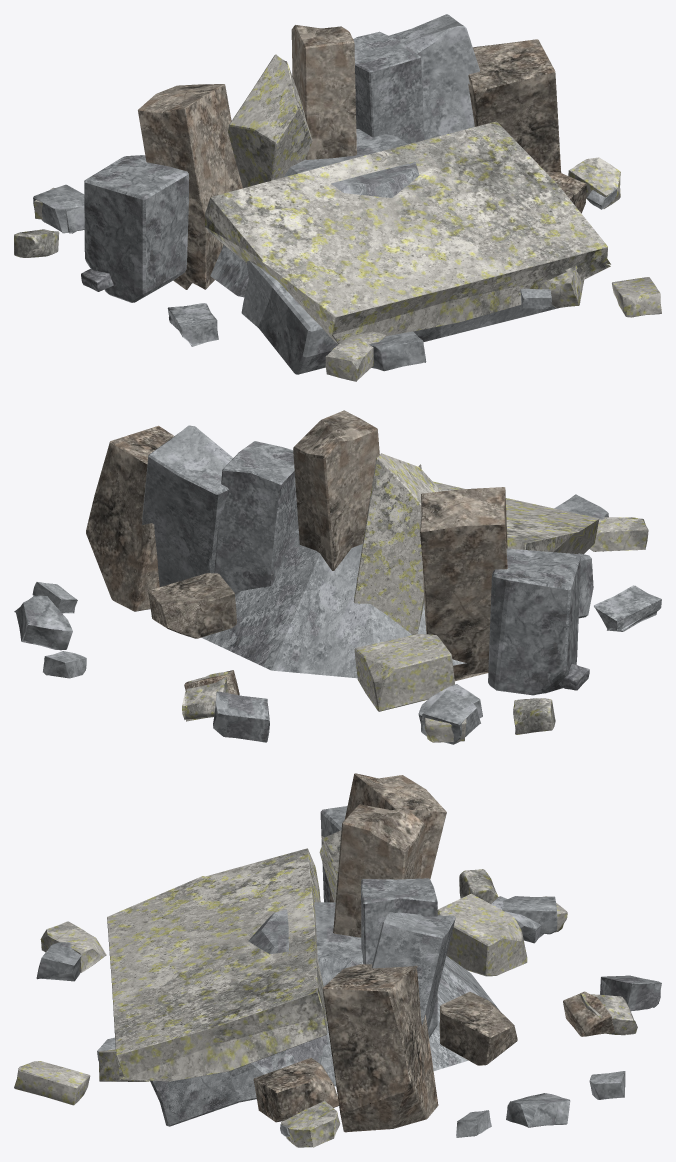
The model's file is cima-vallibierna.glb.
3 renders of one model, top to bottom at view 1: azimuth 30°, elevation 25°; view 2: azimuth 150°, elevation 25°; view 3: azimuth 270°, elevation 25°, orthographic. The views are drawn at different scales.
Visible parts, largest first — view 1: hito_granito_liquen, hito_granito_gris, hito_roca_beis, bloque3, bloque13, bloque18, bloque4, bloque0, bloque12, bloque15, bloque8, bloque16 (+1 smaller); view 2: hito_granito_gris, hito_roca_beis, hito_granito_liquen, bloque17, bloque14, bloque4, bloque3, bloque12, bloque15, bloque9, bloque1, bloque19 (+5 smaller); view 3: hito_granito_liquen, hito_roca_beis, hito_granito_gris, bloque18, bloque0, bloque14, bloque17, bloque3, bloque6, bloque12, bloque13, bloque9 (+5 smaller).
Boxes of the visible parts, left/top/right/bottom form: hito_granito_liquen: left=204, top=54, right=610, bottom=344; hito_granito_gris: left=84, top=14, right=558, bottom=374; hito_roca_beis: left=138, top=25, right=586, bottom=289; bloque3: left=325, top=331, right=386, bottom=381; bloque13: left=369, top=331, right=426, bottom=371; bloque18: left=612, top=277, right=661, bottom=317; bloque4: left=167, top=303, right=218, bottom=346; bloque0: left=568, top=157, right=620, bottom=208; bloque12: left=33, top=184, right=84, bottom=233; bloque15: left=14, top=229, right=59, bottom=257; bloque8: left=540, top=265, right=584, bottom=307; bloque16: left=520, top=288, right=551, bottom=308; hito_granito_gris: left=142, top=425, right=593, bottom=695; hito_roca_beis: left=86, top=410, right=507, bottom=681; hito_granito_liquen: left=353, top=453, right=599, bottom=711; bloque17: left=213, top=691, right=269, bottom=742; bloque14: left=14, top=595, right=72, bottom=650; bloque4: left=594, top=585, right=661, bottom=631; bloque3: left=589, top=517, right=648, bottom=551; bloque12: left=421, top=690, right=480, bottom=744; bloque15: left=513, top=698, right=555, bottom=734; bloque9: left=182, top=672, right=228, bottom=721; bloque1: left=43, top=651, right=86, bottom=678; bloque19: left=32, top=582, right=77, bottom=613; hito_granito_liquen: left=107, top=830, right=527, bottom=1081; hito_roca_beis: left=253, top=773, right=517, bottom=1132; hito_granito_gris: left=150, top=806, right=499, bottom=1126; bloque18: left=14, top=1061, right=90, bottom=1105; bloque0: left=281, top=1100, right=340, bottom=1147; bloque14: left=506, top=1093, right=570, bottom=1127; bloque17: left=600, top=975, right=661, bottom=1011; bloque3: left=40, top=921, right=106, bottom=972; bloque6: left=563, top=991, right=614, bottom=1036; bloque12: left=501, top=896, right=557, bottom=934; bloque13: left=36, top=942, right=81, bottom=981; bloque9: left=580, top=993, right=637, bottom=1035.
Bounding box in the file's own units: 3.54 × 1.52 × 3.73.
3 materials, 3 textured.
